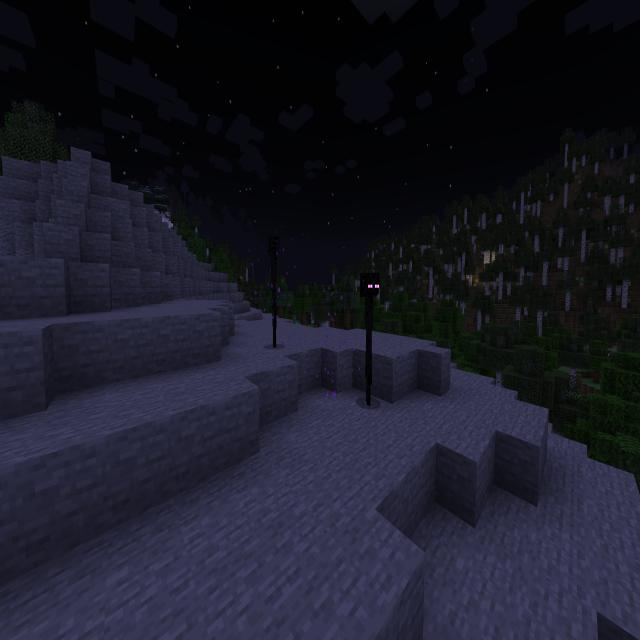Enderman: (358, 269, 381, 412), (266, 231, 282, 350)
